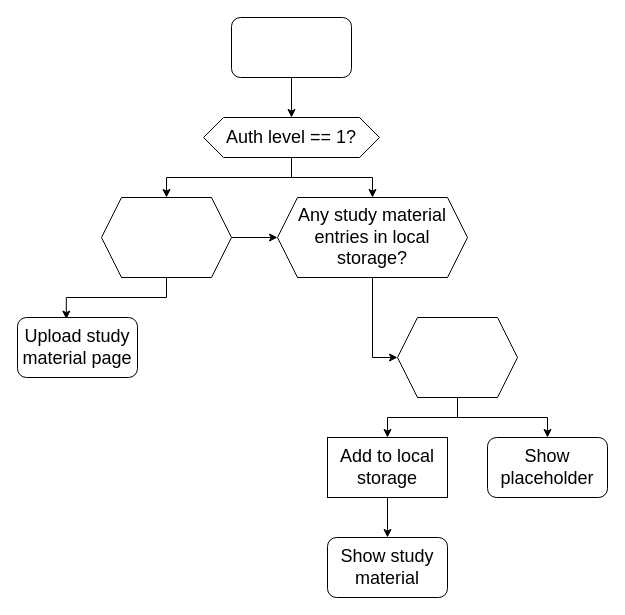
The diagram is 625 pixels wide and 615 high, and some of its shapes have lost their labels. The centre of each missing label's shape, as x and y in pixels:
"Any study material in database?" belongs at (x=457, y=357).
"Main Page" belongs at (x=291, y=47).
"Upload study material?" belongs at (x=166, y=237).
